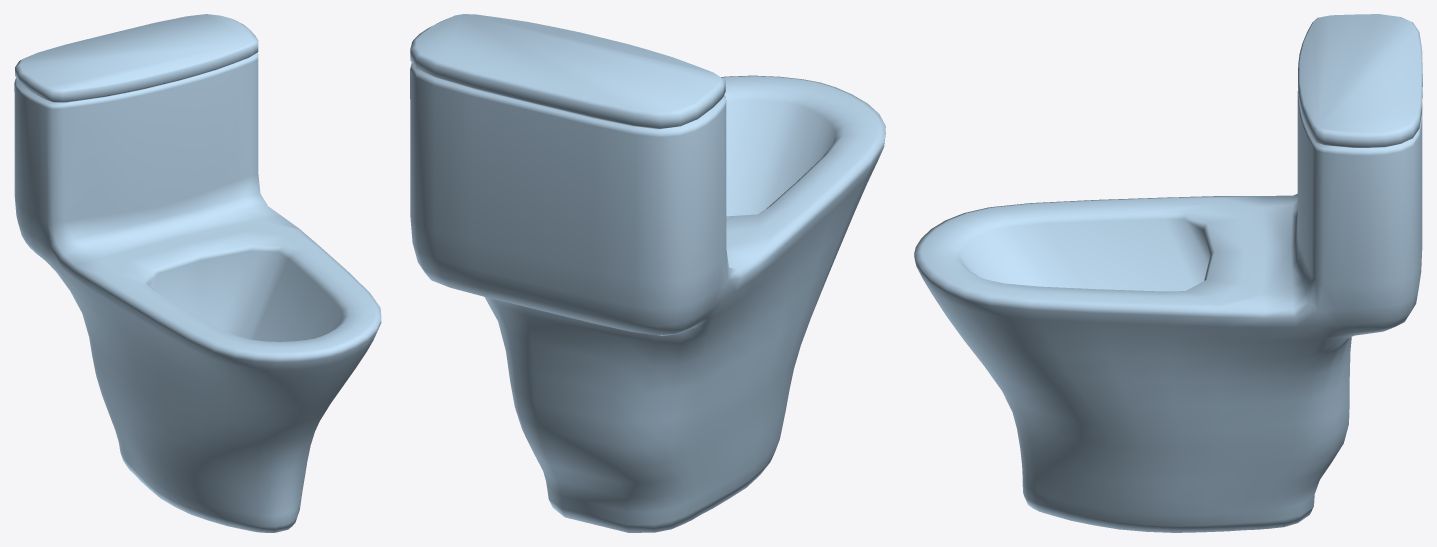
Rendered from gabinetto.fbx.
3 renders of one model, left to right at view 1: azimuth 30°, elevation 25°; view 2: azimuth 150°, elevation 25°; view 3: azimuth 270°, elevation 25°, orthographic. The views are drawn at different scales.
Parts seen in each view (by area): view 1: gabinetto; view 2: gabinetto; view 3: gabinetto.
Part boxes in pixels (box(x1,y1,x2,y2)): gabinetto: box(14, 14, 381, 532); gabinetto: box(410, 14, 885, 532); gabinetto: box(914, 14, 1422, 532).
Size of the model in its own units: 49.19 by 78.82 by 84.85.
